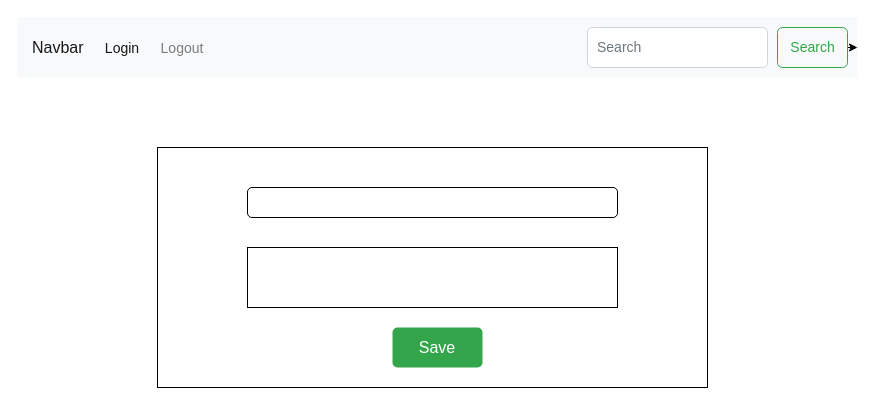
Some shapes in this 883 by 405 pixel diagram are drawn without their labels. Each missing label, with the box of its shape:
Add a Category: (246, 186, 618, 218)
Category Name: (246, 246, 618, 308)
